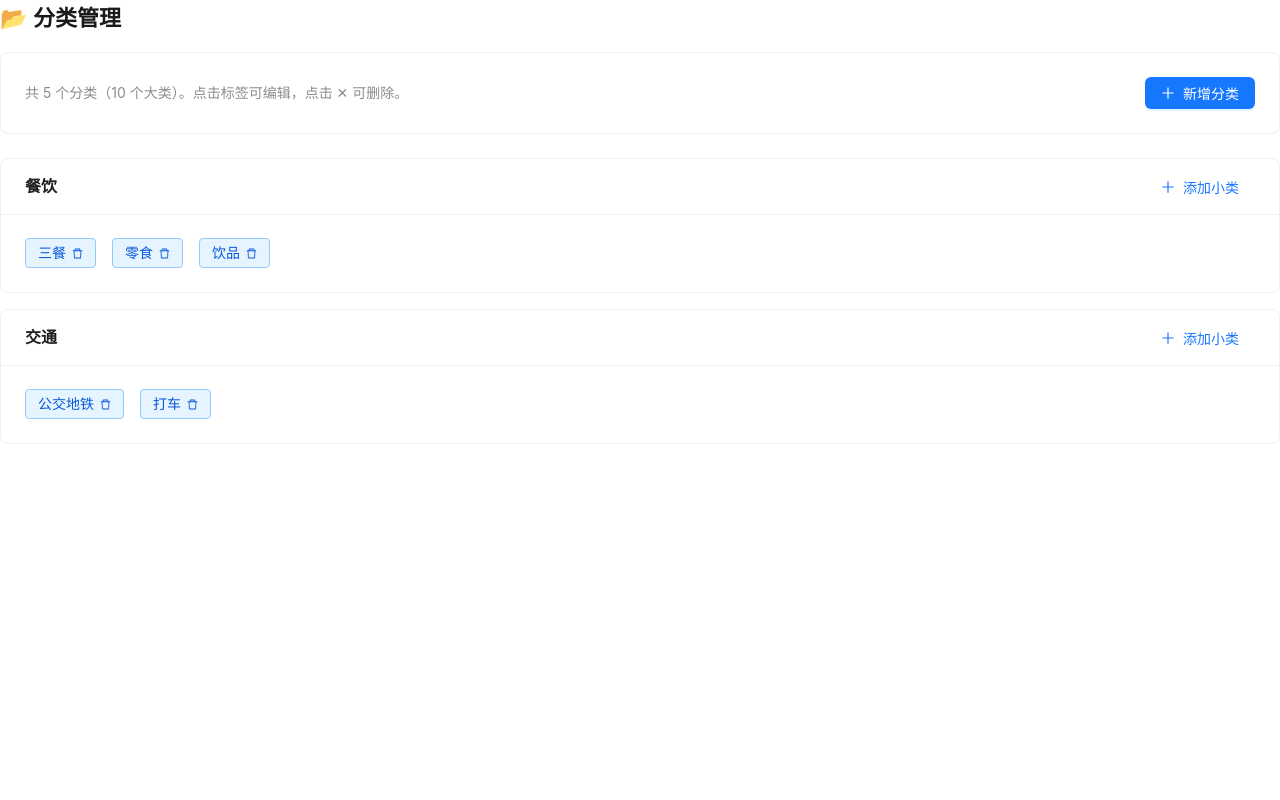
Test: Category › 点击"新增分类"按钮打开 Modal
Expected: the text "新增分类" is shown, [1183,83,1239,103]
Click the button "新增分类": (1200, 93) [1145,77,1255,109]
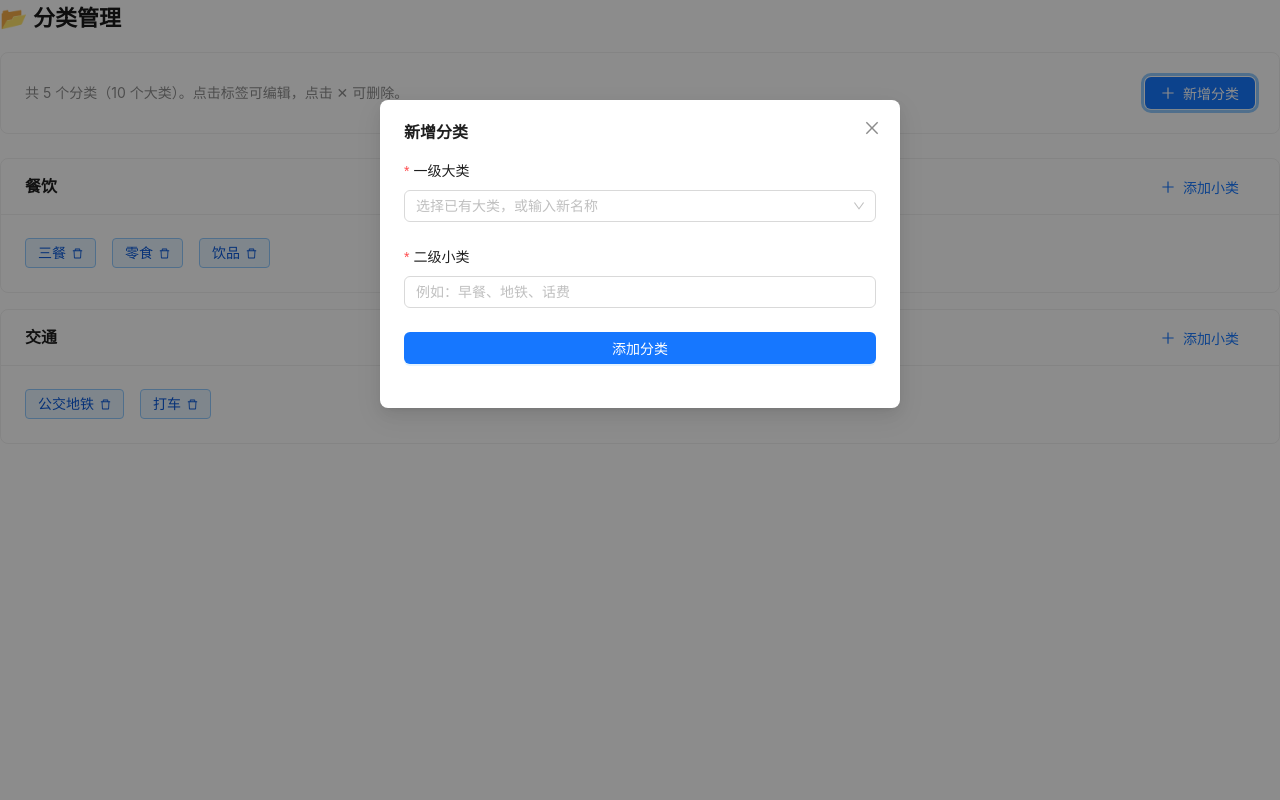
Expected: the text "新增分类" is shown, [404,122,468,142]
